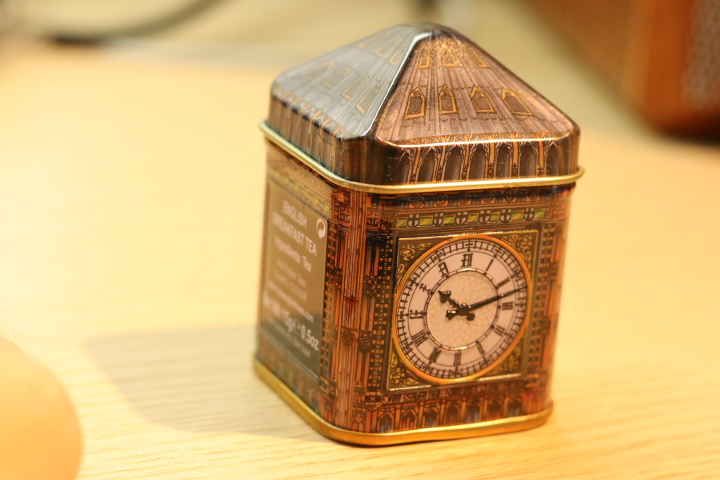Big Ben: (234, 14, 593, 458)
